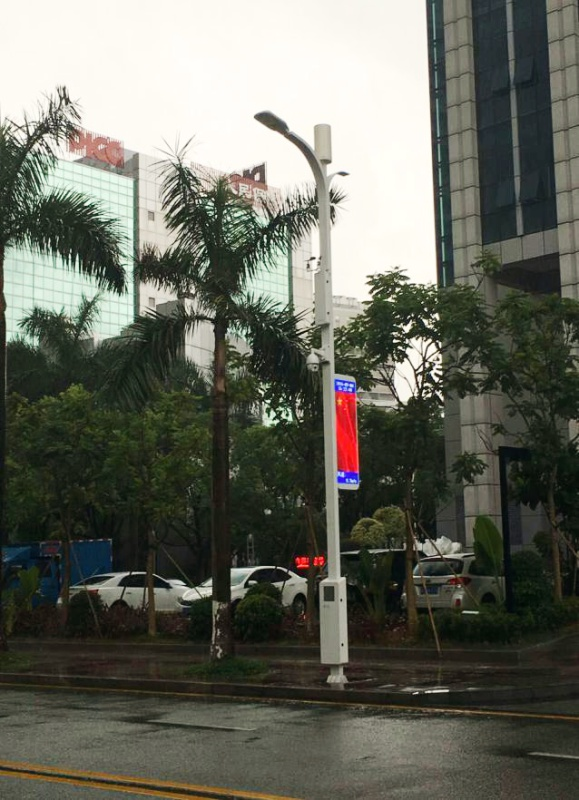pole: (233, 90, 404, 706)
